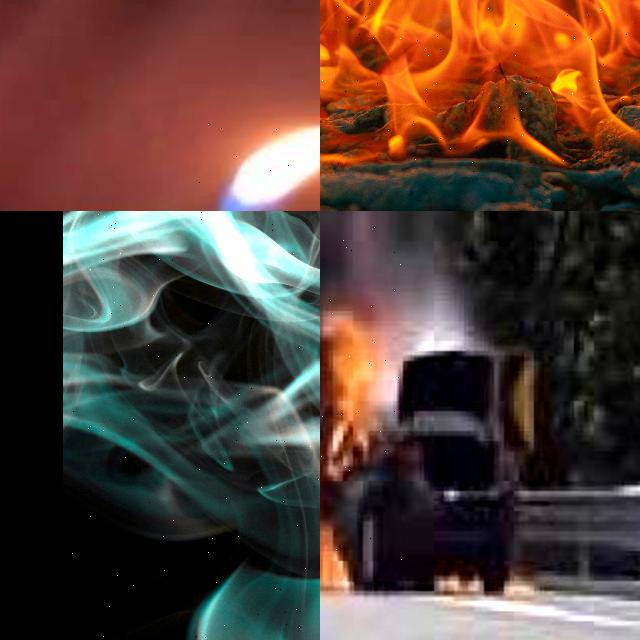fire: (320, 0, 640, 162), (320, 306, 386, 590), (220, 125, 320, 211)
smoke: (64, 211, 320, 640), (320, 211, 407, 582)
